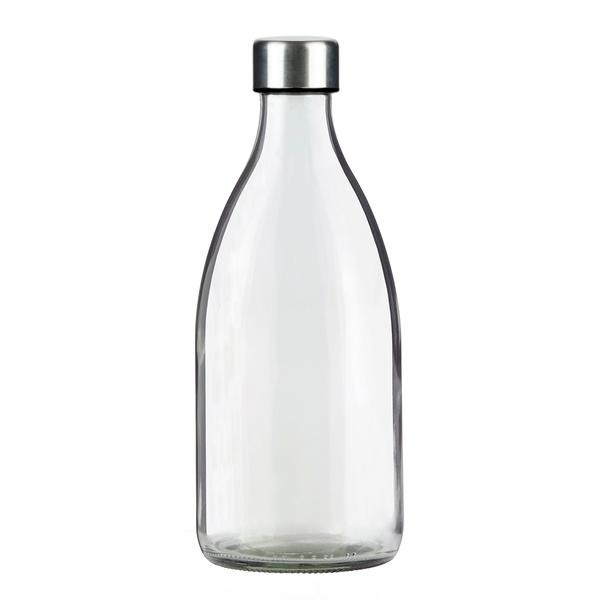container: (190, 32, 407, 574)
